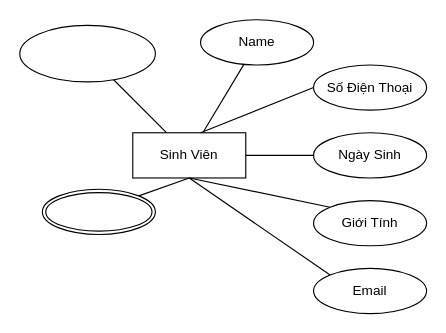
Image size: 446x333. Some labels were removed from this diagram. The shapes that lost their labels are listed below. From the top down, each one's centre as x and y in pixels, then its label:
At pixel 87 53: "Mã Số Sinh Viên".
At pixel 98 211: "Attribute".
